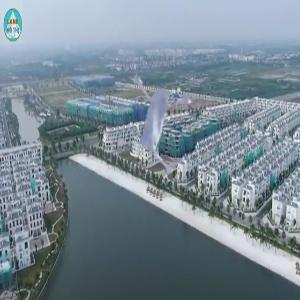drone: (92, 57, 230, 195)
